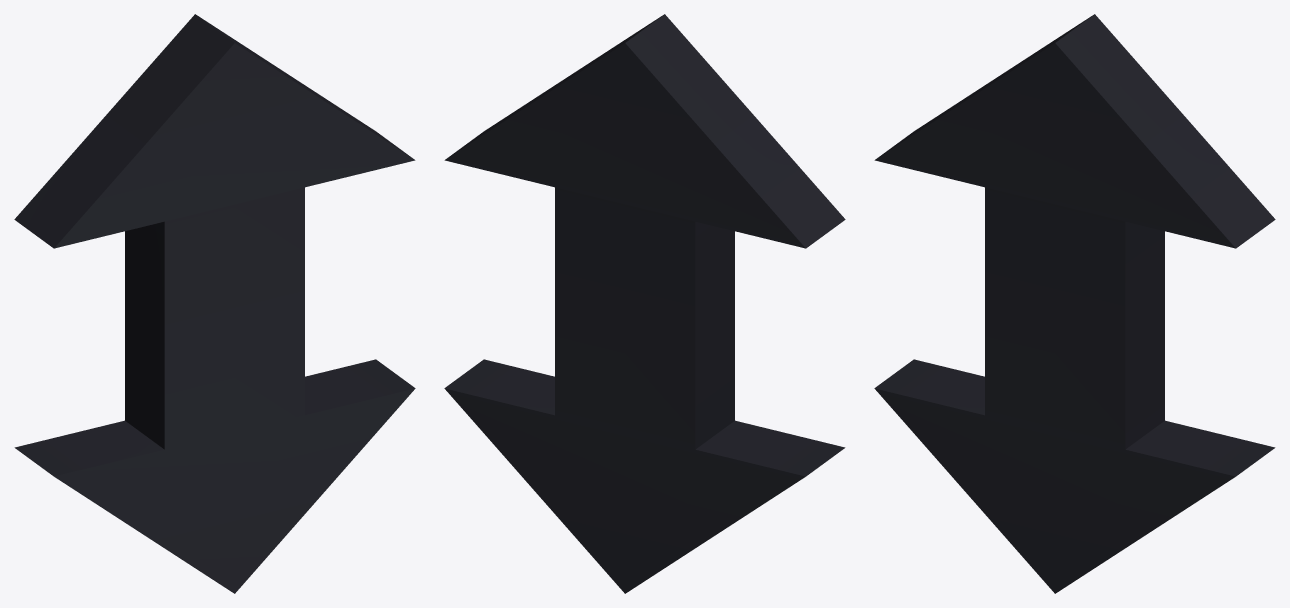
Rendered from GreenIcon.fbx.
3 renders of one model, left to right at view 1: azimuth 30°, elevation 25°; view 2: azimuth 150°, elevation 25°; view 3: azimuth 330°, elevation 25°, orthographic.
Parts seen in each view (by area): view 1: GreenIcon; view 2: GreenIcon; view 3: GreenIcon.
Boxes of the visible parts, box(x1,y1,x2,y2) form: GreenIcon: box(14, 14, 415, 593); GreenIcon: box(444, 14, 845, 593); GreenIcon: box(874, 14, 1275, 593).
Bounding box in the file's own units: 15.35 × 22.34 × 2.91.
